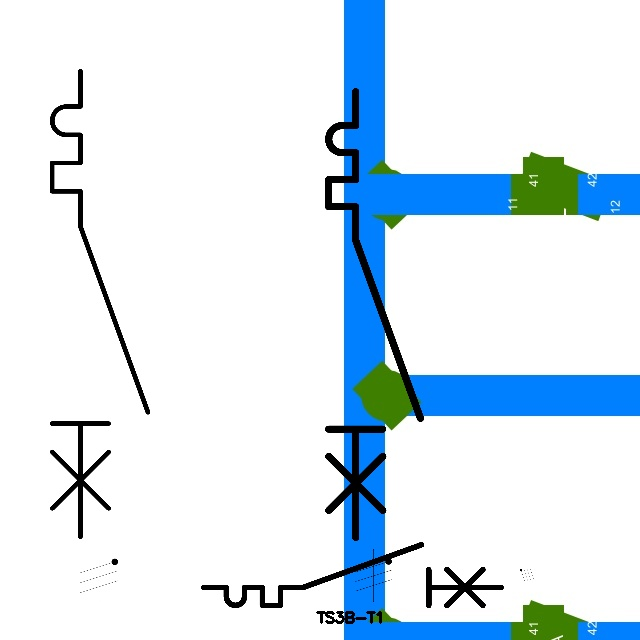interruptor_termomagnetico: (40, 59, 160, 549), (317, 80, 432, 549), (196, 537, 508, 613)
